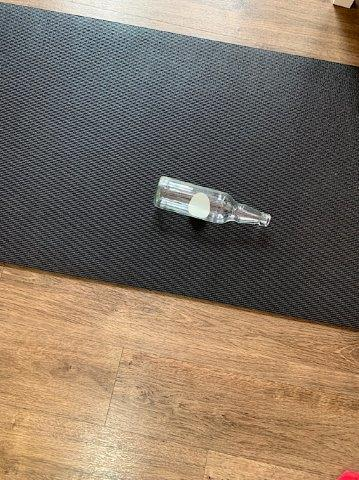botolkaca: (153, 176, 272, 229)
